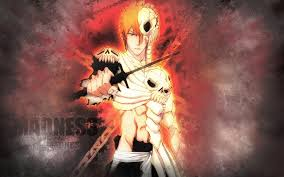Ichigo: (113, 8, 164, 59)
